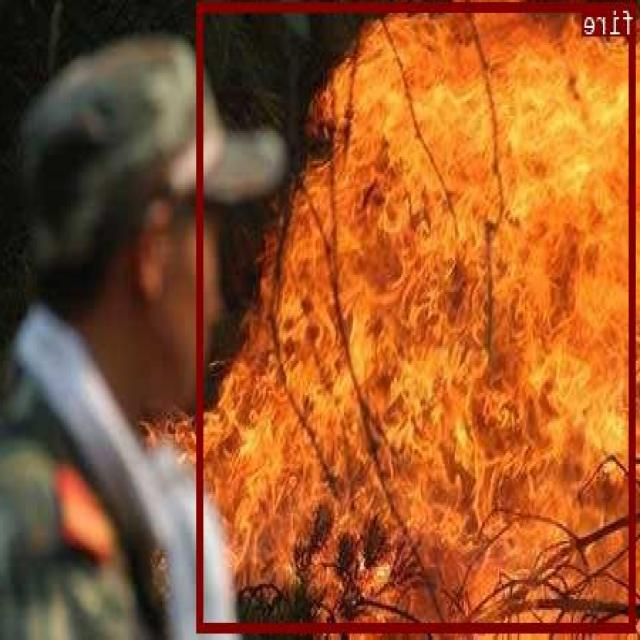fire: (199, 1, 636, 631)
